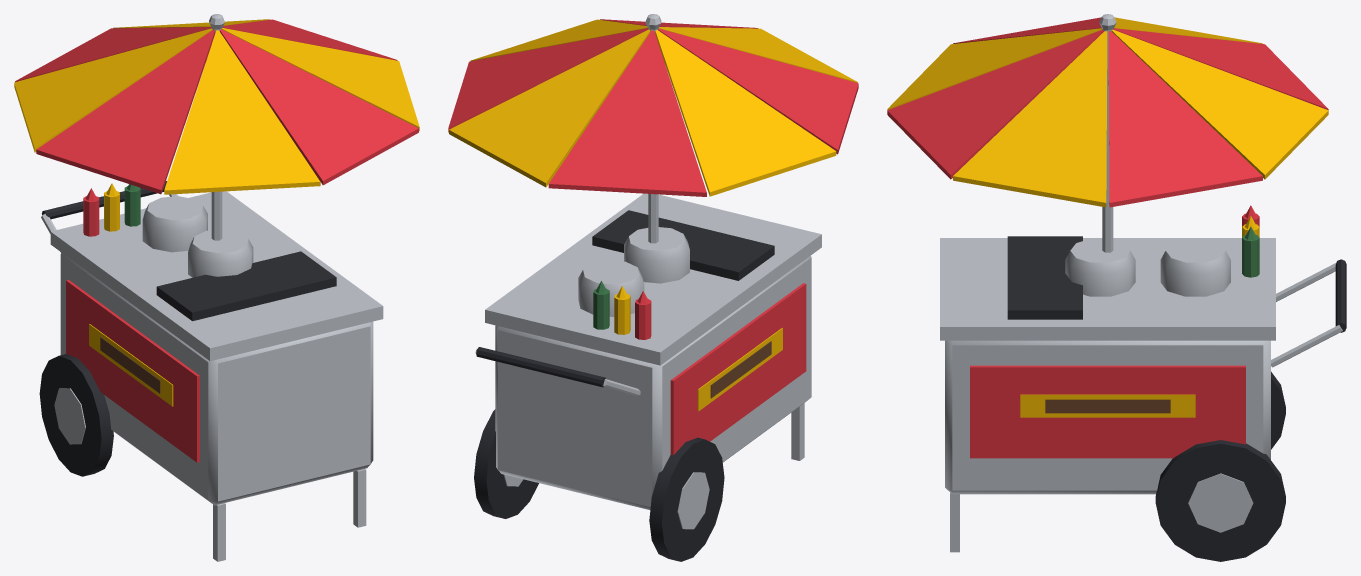
The model's file is hot_dog_cart.glb.
3 renders of one model, left to right at view 1: azimuth 30°, elevation 25°; view 2: azimuth 150°, elevation 25°; view 3: azimuth 270°, elevation 25°, orthographic. The views are drawn at different scales.
Visible parts, largest first — view 1: body; view 2: body; view 3: body.
Part boxes in pixels (x1=…): body: x1=14, y1=14, x2=419, y2=561; body: x1=448, y1=14, x2=858, y2=561; body: x1=887, y1=14, x2=1346, y2=561.
Size of the model in its own units: 176 by 220 by 183.
